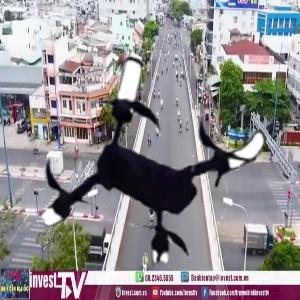drone: (29, 36, 273, 280)
